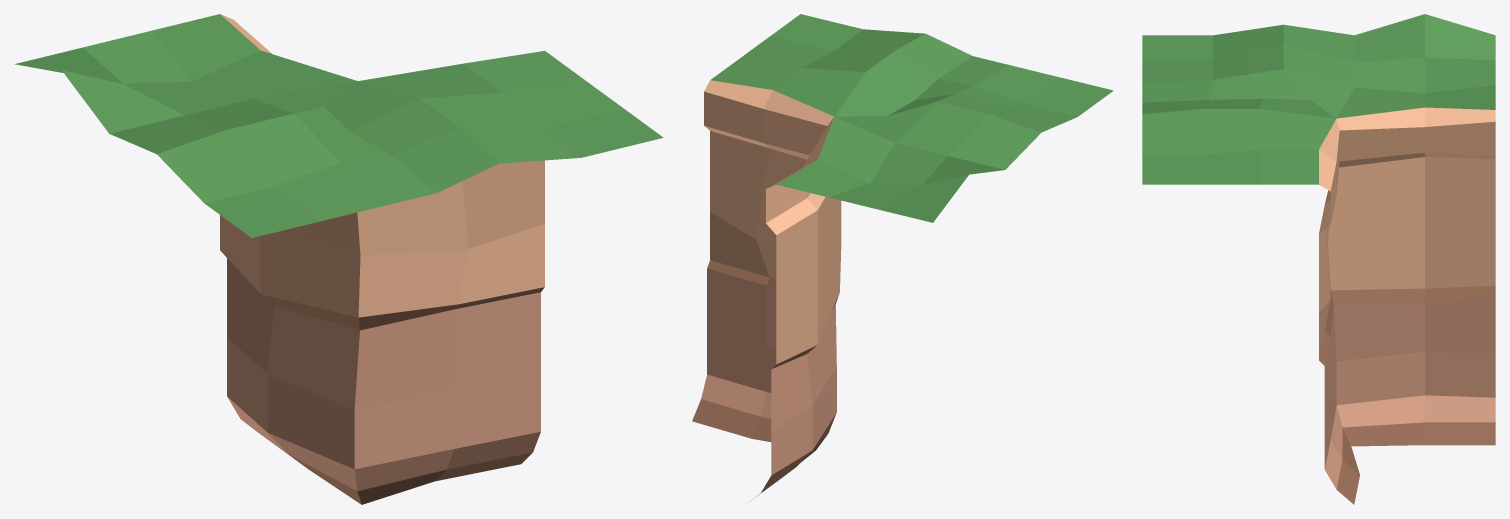
The model's file is CliffCornerConvex.fbx.
The picture shows the model from 3 angles, left to right: view 1: azimuth 30°, elevation 25°; view 2: azimuth 150°, elevation 25°; view 3: azimuth 270°, elevation 25°; orthographic projection. The views are drawn at different scales.
Visible parts, largest first — view 1: CliffCornerConvex; view 2: CliffCornerConvex; view 3: CliffCornerConvex.
Boxes of the visible parts, x1=… form: CliffCornerConvex: x1=14, y1=14, x2=663, y2=504; CliffCornerConvex: x1=692, y1=14, x2=1113, y2=500; CliffCornerConvex: x1=1142, y1=14, x2=1495, y2=504.
Bounding box in the file's own units: 19990 × 21312 × 19990.
